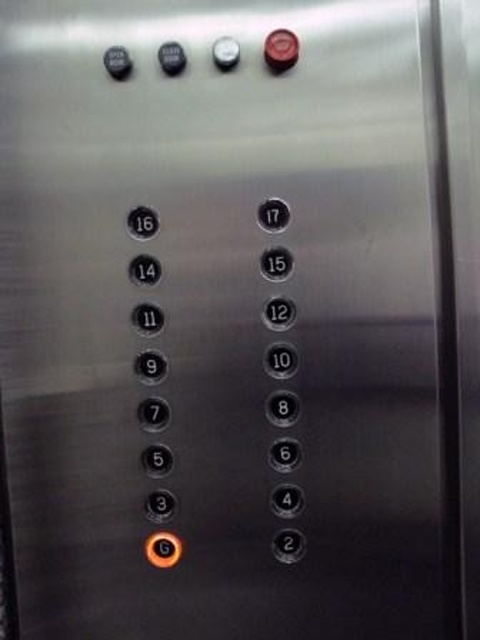10: (262, 341, 302, 379)
11: (128, 300, 168, 340)
12: (260, 293, 298, 333)
14: (126, 251, 165, 291)
15: (256, 241, 296, 283)
16: (123, 202, 163, 242)
17: (253, 196, 293, 235)
2: (268, 525, 307, 566)
3: (138, 488, 180, 525)
4: (266, 482, 306, 519)
5: (137, 441, 178, 480)
6: (265, 436, 304, 474)
7: (134, 394, 173, 434)
8: (263, 390, 302, 428)
9: (130, 347, 170, 387)
G: (145, 531, 183, 568)
text_blur: (262, 28, 301, 68), (210, 36, 242, 74), (103, 44, 133, 82), (157, 41, 188, 77)
